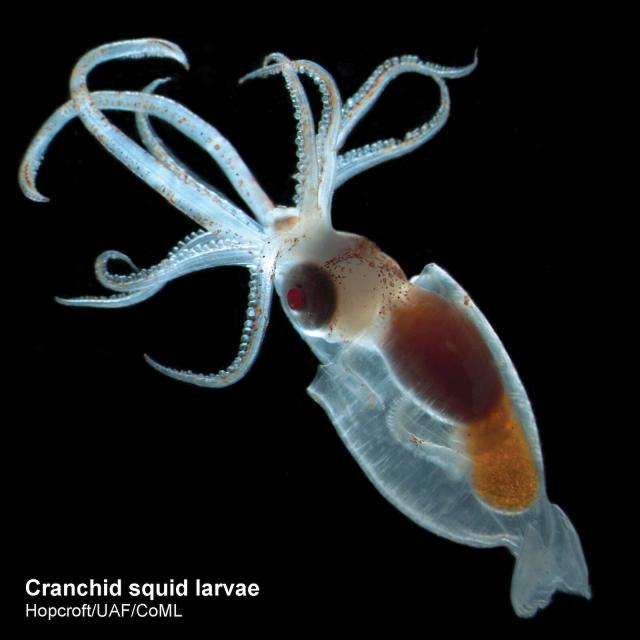squid: (19, 39, 590, 618)
